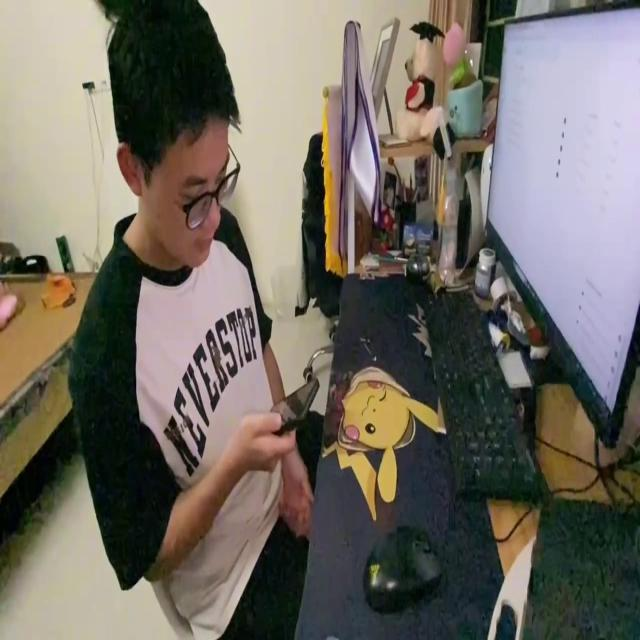laptop: (480, 21, 640, 449)
phone: (265, 371, 319, 435)
student: (68, 0, 322, 620)
